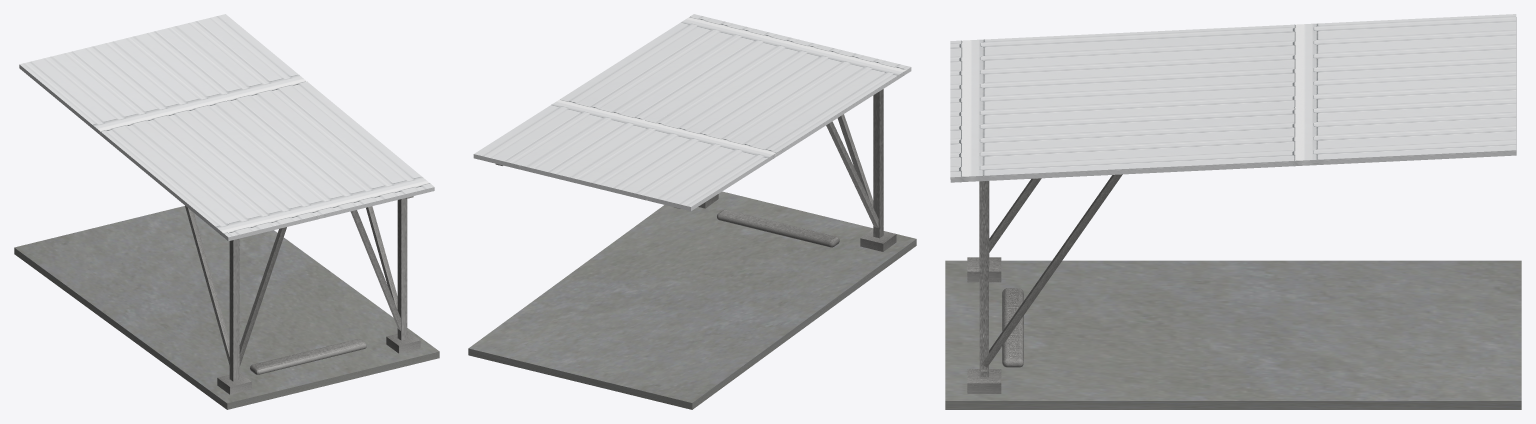
File: Parking.fbx
The picture shows the model from 3 angles, left to right: view 1: azimuth 30°, elevation 25°; view 2: azimuth 150°, elevation 25°; view 3: azimuth 270°, elevation 25°; orthographic projection. The views are drawn at different scales.
Visible parts, largest first — view 1: METAL_ROOF, PARKING_FLOOR, STEEL_POST_1, STEEL_POST_2, Cube, LEFT_BRACE_FRONT, FRONT_BRACE_LEFT, FRONT_BRACE_RIGHT, RIGHT_BRACE_FRONT, POST_BASE_2, POST_BASE_1; view 2: PARKING_FLOOR, METAL_ROOF, STEEL_POST_1, Cube, LEFT_BRACE_FRONT, FRONT_BRACE_LEFT, POST_BASE_1; view 3: PARKING_FLOOR, METAL_ROOF, RIGHT_BRACE_FRONT, STEEL_POST_2, Cube, POST_BASE_2, LEFT_BRACE_FRONT, POST_BASE_1.
Boxes of the visible parts, bbox=[...] form: METAL_ROOF: bbox=[19, 14, 434, 241]; PARKING_FLOOR: bbox=[14, 206, 439, 409]; STEEL_POST_1: bbox=[229, 239, 239, 381]; STEEL_POST_2: bbox=[397, 198, 407, 340]; Cube: bbox=[250, 339, 366, 374]; LEFT_BRACE_FRONT: bbox=[185, 206, 229, 364]; FRONT_BRACE_LEFT: bbox=[239, 227, 286, 366]; FRONT_BRACE_RIGHT: bbox=[350, 210, 400, 330]; RIGHT_BRACE_FRONT: bbox=[366, 206, 397, 309]; POST_BASE_2: bbox=[386, 331, 420, 353]; POST_BASE_1: bbox=[217, 373, 251, 394]; PARKING_FLOOR: bbox=[468, 191, 916, 409]; METAL_ROOF: bbox=[473, 14, 911, 211]; STEEL_POST_1: bbox=[873, 89, 883, 238]; Cube: bbox=[717, 209, 839, 247]; LEFT_BRACE_FRONT: bbox=[826, 121, 878, 227]; FRONT_BRACE_LEFT: bbox=[837, 114, 873, 206]; POST_BASE_1: bbox=[860, 229, 896, 251]; PARKING_FLOOR: bbox=[945, 260, 1521, 409]; METAL_ROOF: bbox=[950, 14, 1516, 182]; RIGHT_BRACE_FRONT: bbox=[981, 174, 1122, 367]; STEEL_POST_2: bbox=[979, 181, 988, 377]; Cube: bbox=[1002, 288, 1023, 367]; POST_BASE_2: bbox=[967, 369, 1001, 393]; LEFT_BRACE_FRONT: bbox=[989, 178, 1041, 252]; POST_BASE_1: bbox=[967, 257, 1001, 282].
Bounding box in the file's own units: 340 × 291 × 590.
3 materials, 3 textured.
